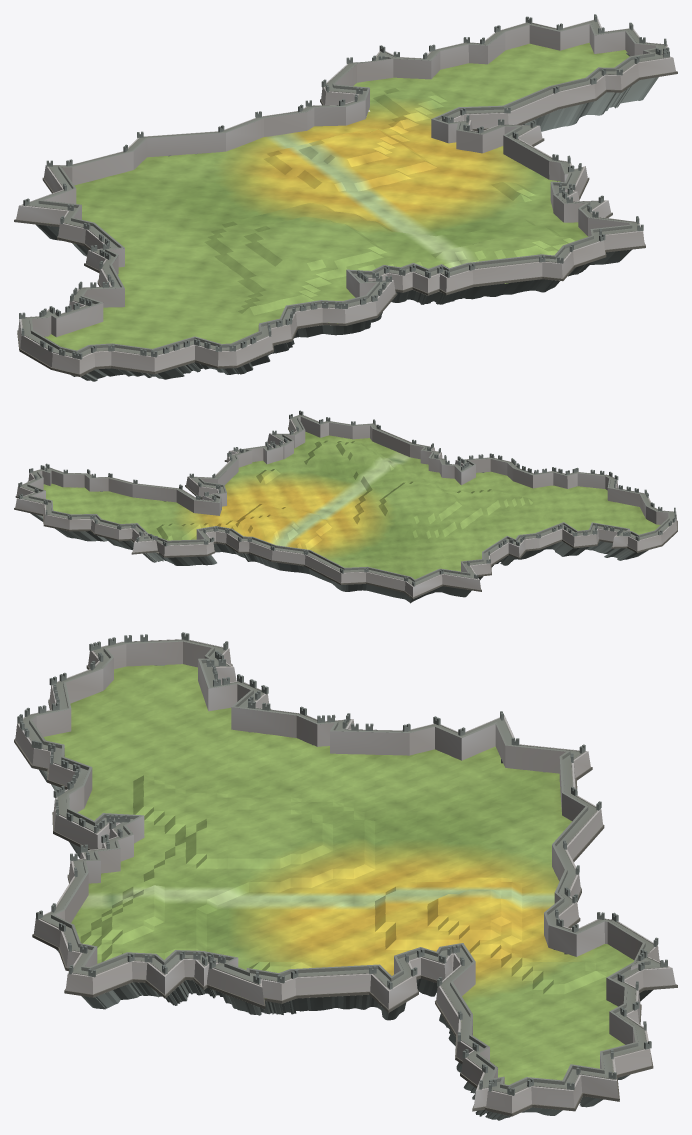
3 views of the same model, one above another, from view 1: azimuth 30°, elevation 25°; view 2: azimuth 150°, elevation 25°; view 3: azimuth 270°, elevation 25° (orthographic). The views are drawn at different scales.
Visible parts, largest first — view 1: ground_2b0a4041; view 2: ground_2b0a4041; view 3: ground_2b0a4041.
Part boxes in pixels (left/top/right/bottom): ground_2b0a4041: left=14, top=14, right=677, bottom=381; ground_2b0a4041: left=14, top=410, right=677, bottom=603; ground_2b0a4041: left=14, top=632, right=677, bottom=1120.
Bounding box in the file's own units: 155 × 7.61 × 94.74.
Materials: 3 (1 with a texture image).
